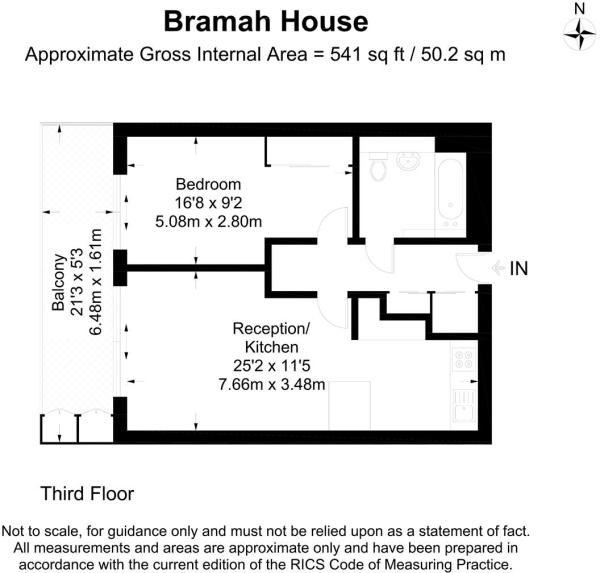GrossArea: (19, 42, 510, 67)
